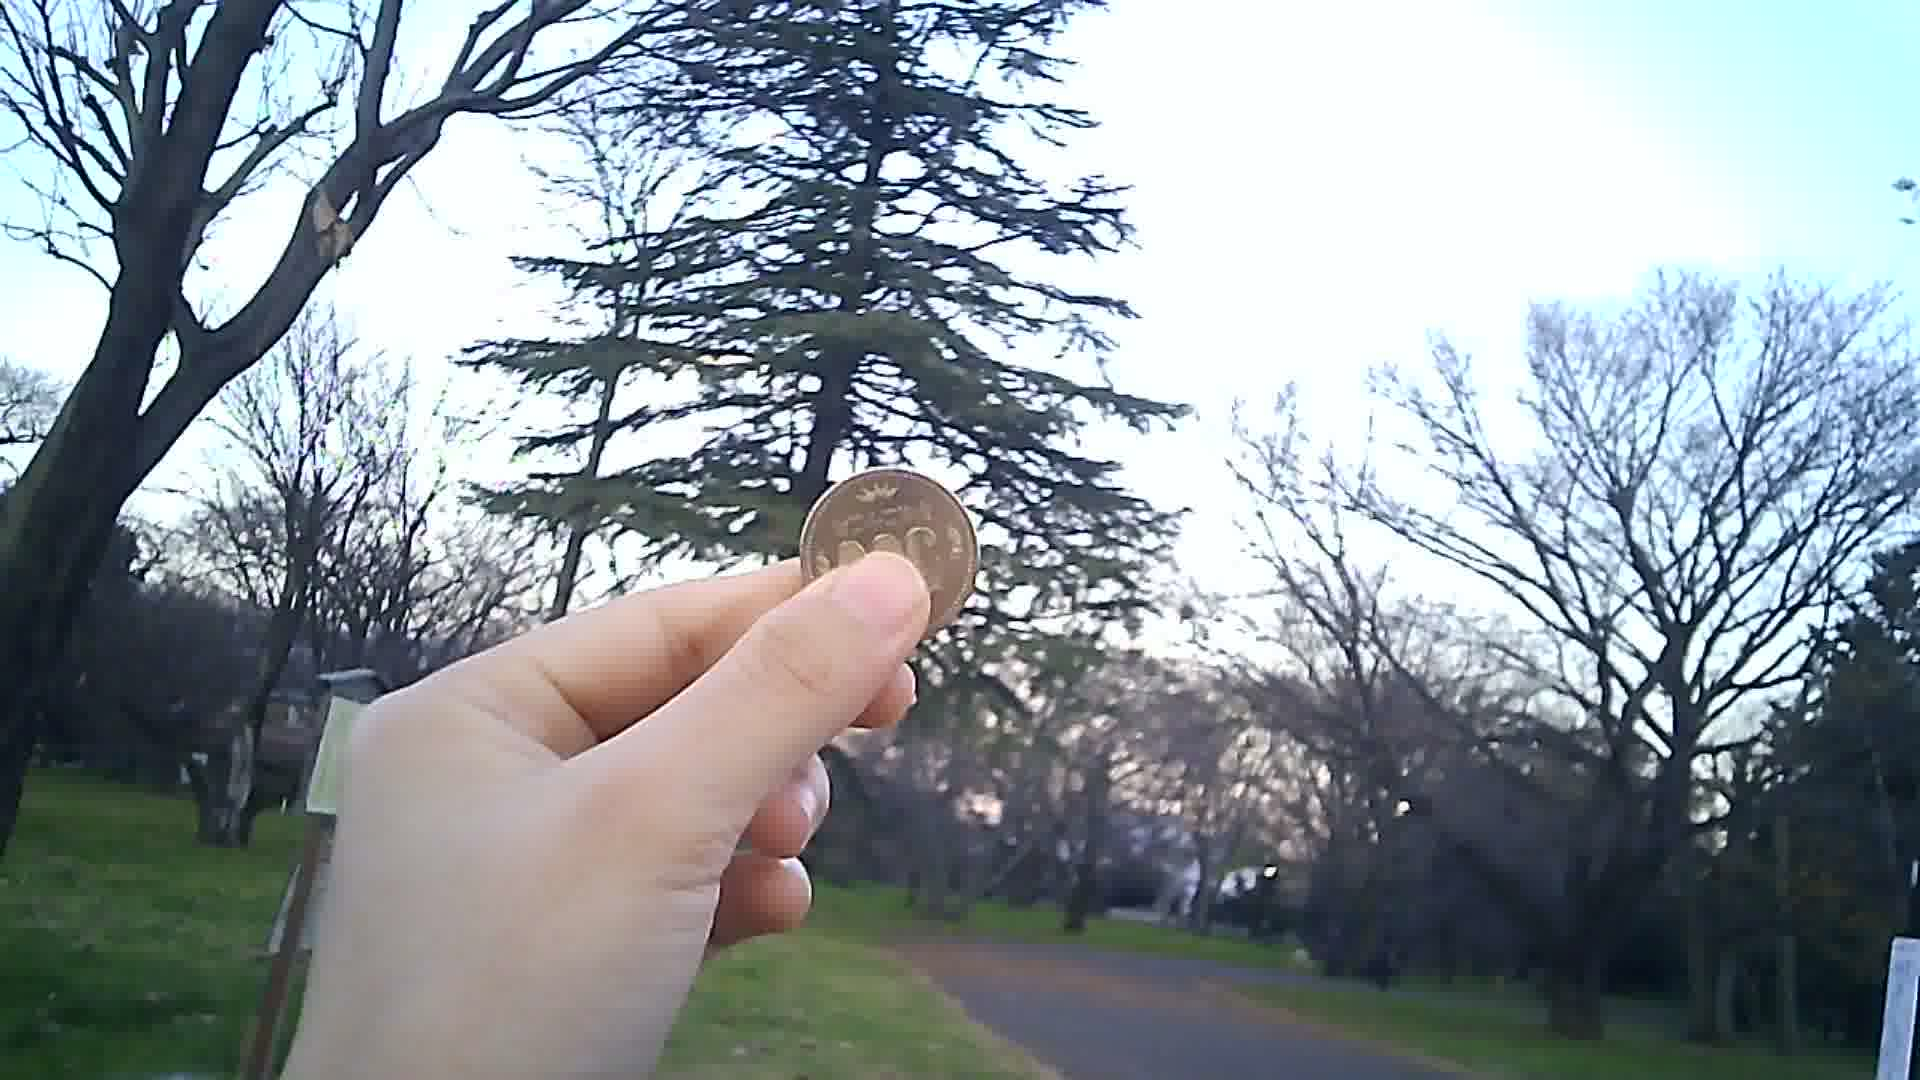500 Yen: (793, 467, 982, 632)
